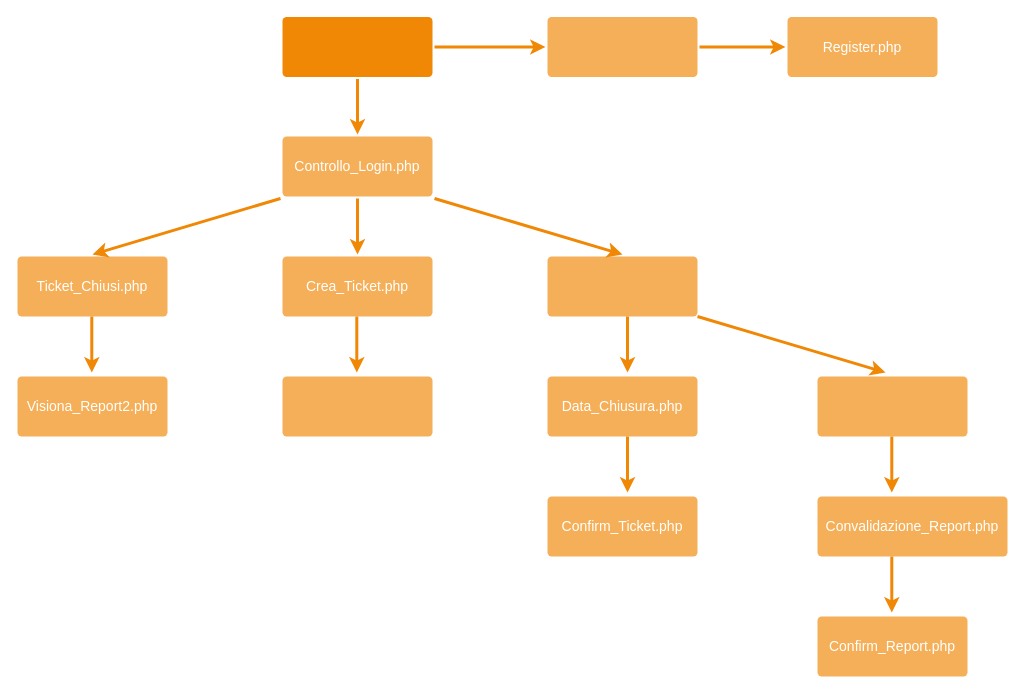
The diagram is 1024 pixels wide and 694 high, and some of its shapes have lost their labels. The shapes that lost their labels are listed below. From the top down, each one's centre as x and y in pixels, then its label:
At [357,46]: "index.html".
At [622,46]: "register.html".
At [622,286]: "Visiona_Ticket.php".
At [357,406]: "Ticket_Approvato.php".
At [892,406]: "Visiona_Report1.php".
